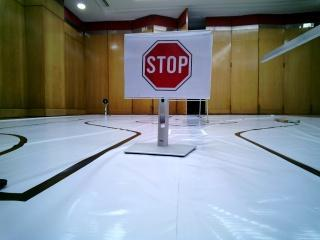stop: (131, 31, 210, 104)
